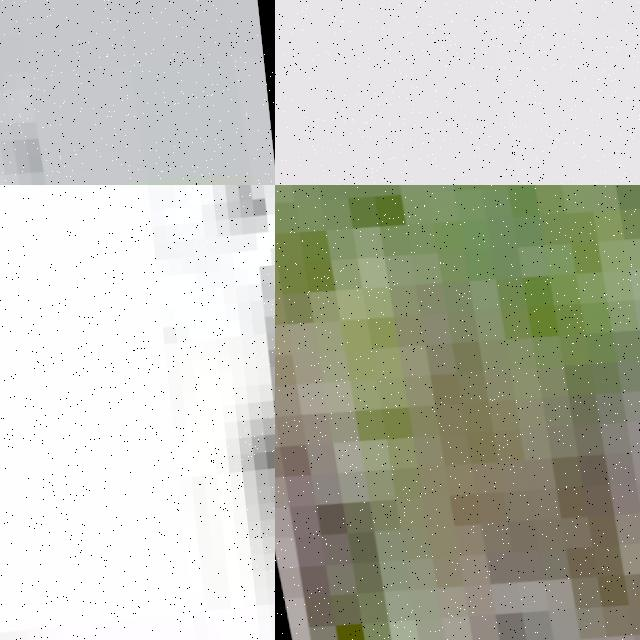drone: (275, 185, 640, 640), (275, 0, 640, 185), (0, 0, 275, 185)
